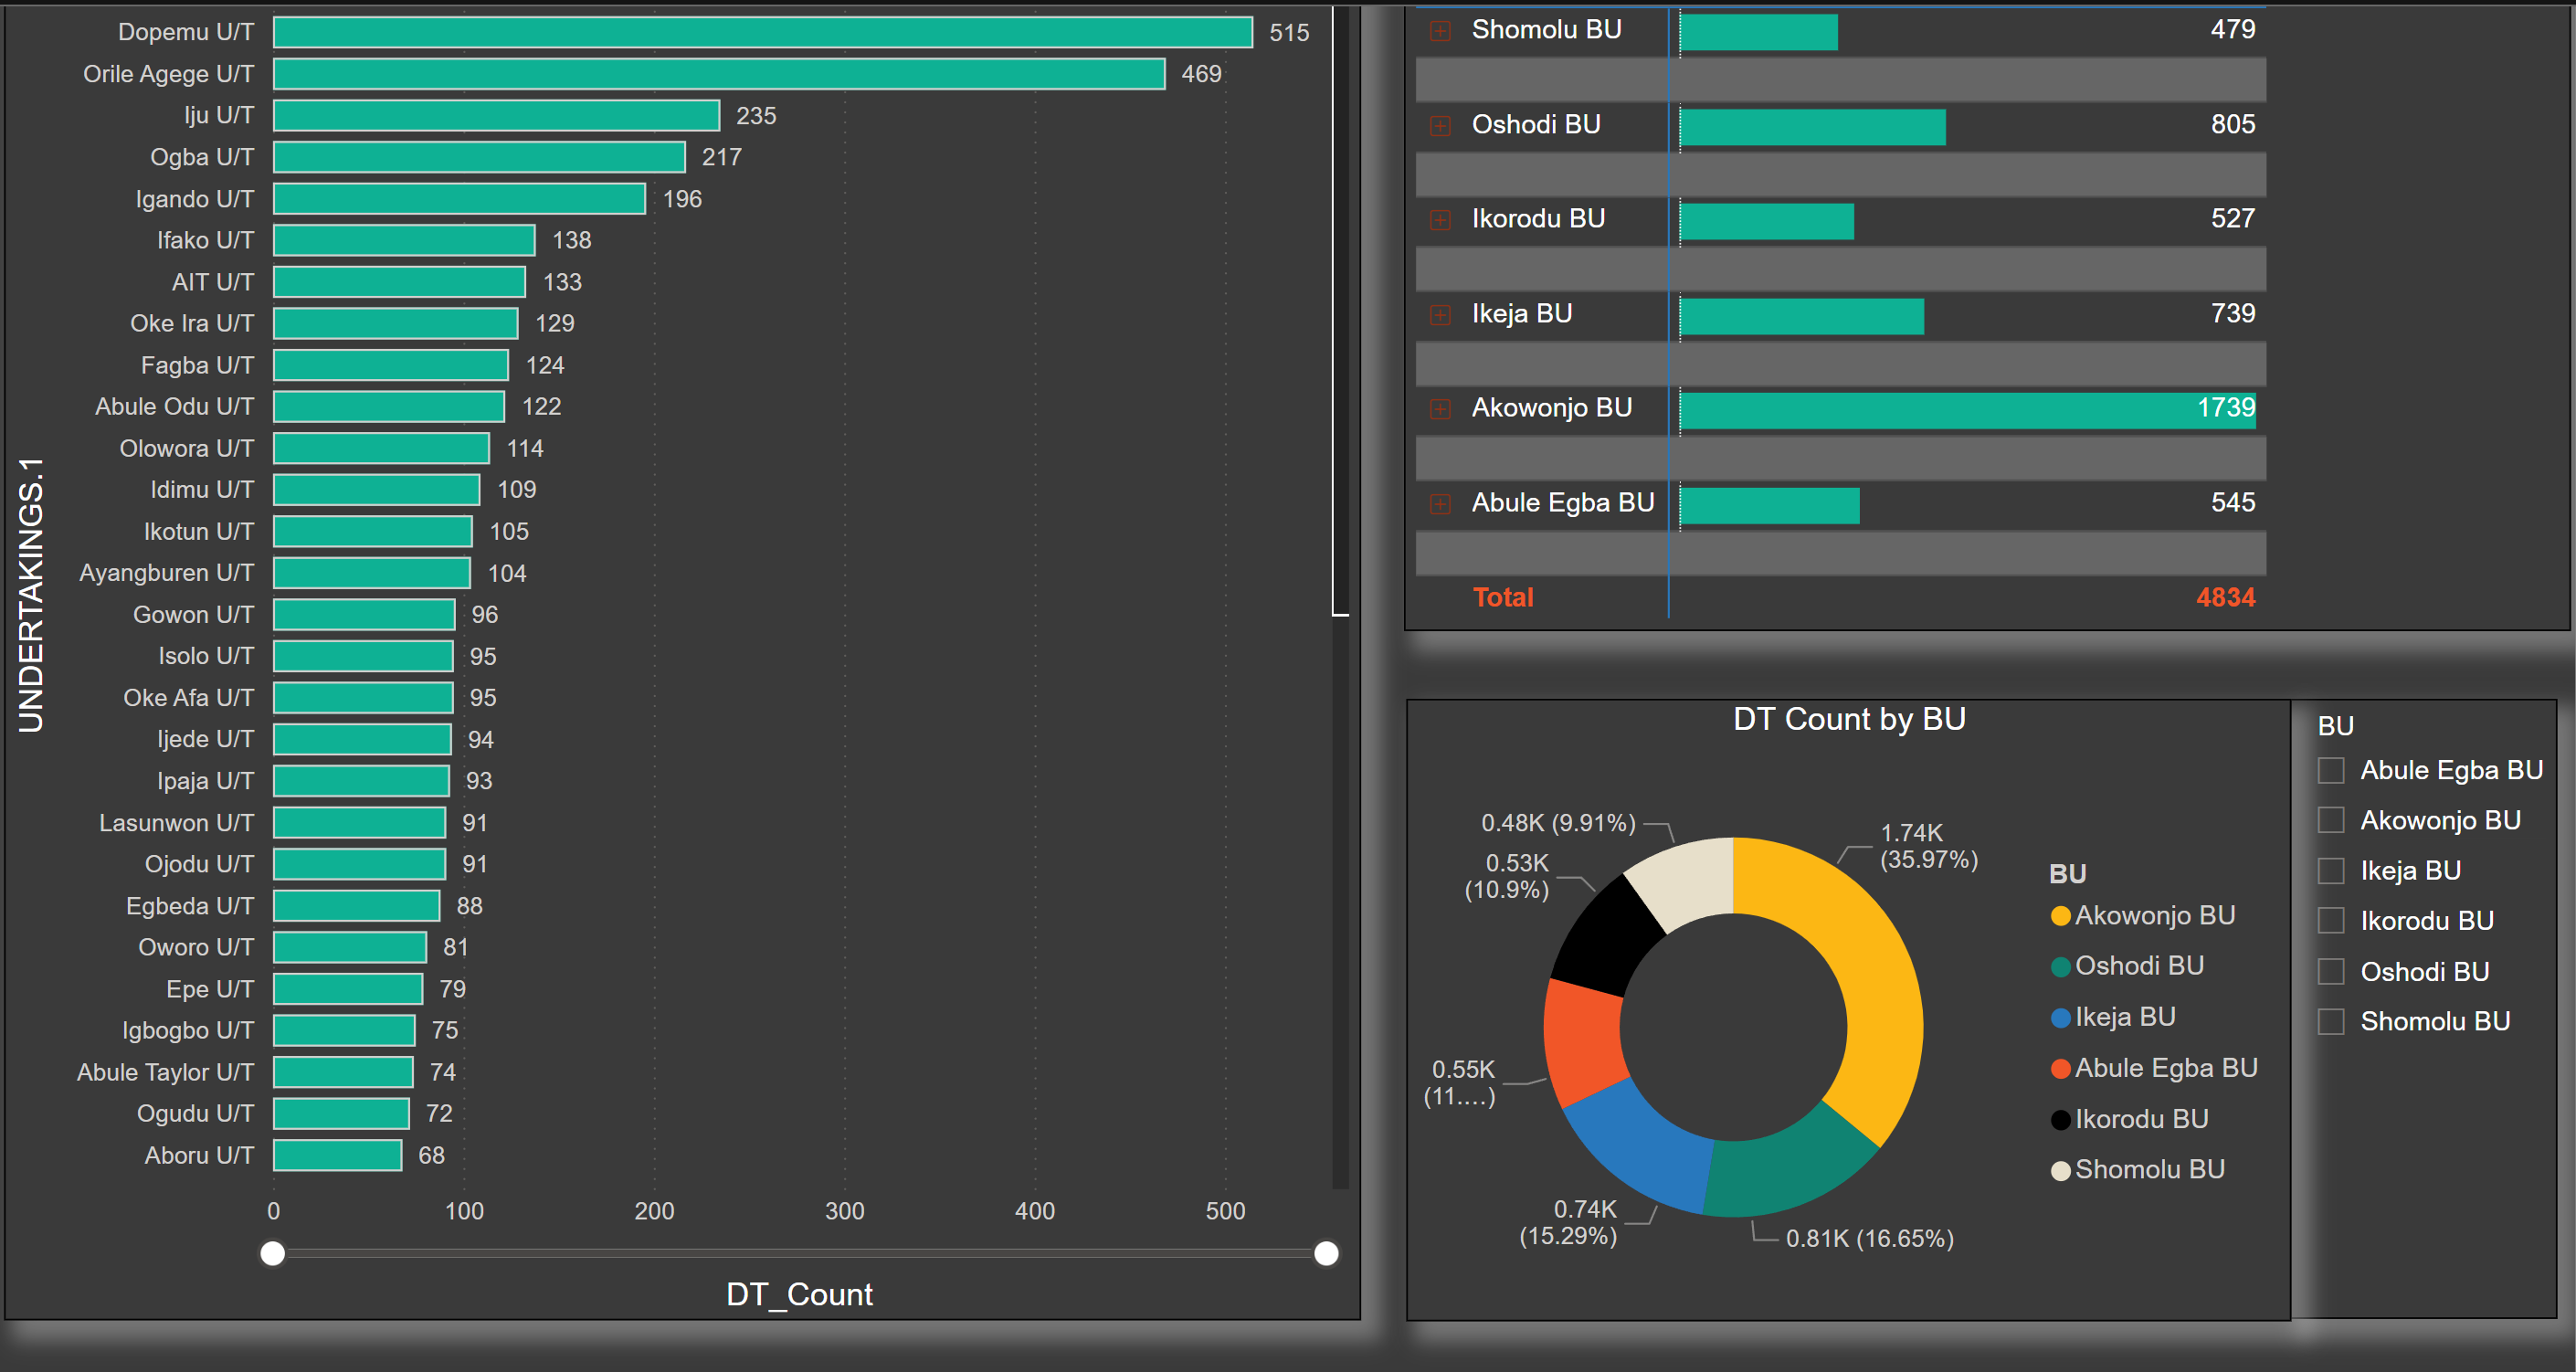

Layout of this report page (visuals, bound fields, positions):
{"tool":"powerbi","page":{"name":"Undertaking Performances","canvas":[1280,720],"ordinal":2},"visuals":[{"type":"pivotTable","fields":{"Rows":["IE_UPRISAL_DATA-demo.BU","IE_UPRISAL_DATA-demo.UNDERTAKINGS.1"],"Values":["IE_UPRISAL_DATA-demo.DT_Count"]},"box":[699.2,1.8,579.7,345.1],"z":0,"group":"g1"},{"type":"clusteredBarChart","title":"DT Count by Undertakings","fields":{"Category":["IE_UPRISAL_DATA-demo.UNDERTAKINGS.1"],"Y":["IE_UPRISAL_DATA-demo.DT_Count"]},"box":[3.8,3,674,686.4],"z":1000,"group":"g1"},{"type":"donutChart","title":"DT Count by BU","fields":{"Category":["IE_UPRISAL_DATA-demo.BU"],"Y":["IE_UPRISAL_DATA-demo.DT_Count"]},"box":[700.4,380.4,439.4,309.1],"z":2000,"group":"g1"},{"type":"slicer","fields":{"Values":["IE_UPRISAL_DATA-demo.BU"]},"box":[1138.3,381.1,132.8,307.8],"z":3000},{"type":"actionButton","box":[0,0,100,40],"z":4000},{"type":"group","id":"g1","title":"Group 1","box":[3.8,1.8,1275.1,687.7],"z":5000}]}

Visuals, with their boxes on the page's 1280x720 design canvas (x1, y1, x2, y2). These are canvas units, not pixel positions in the 2576x1372 screenshot, which may show the page scaled, cropped or inside an application window:
pivotTable - IE_UPRISAL_DATA-demo.BU x IE_UPRISAL_DATA-demo.UNDERTAKINGS.1: {"left": 699, "top": 2, "right": 1279, "bottom": 347}
"DT Count by Undertakings" clusteredBarChart: {"left": 4, "top": 3, "right": 678, "bottom": 689}
"DT Count by BU" donutChart: {"left": 700, "top": 380, "right": 1140, "bottom": 690}
slicer - IE_UPRISAL_DATA-demo.BU: {"left": 1138, "top": 381, "right": 1271, "bottom": 689}
actionButton: {"left": 0, "top": 0, "right": 100, "bottom": 40}
"Group 1" group: {"left": 4, "top": 2, "right": 1279, "bottom": 690}
